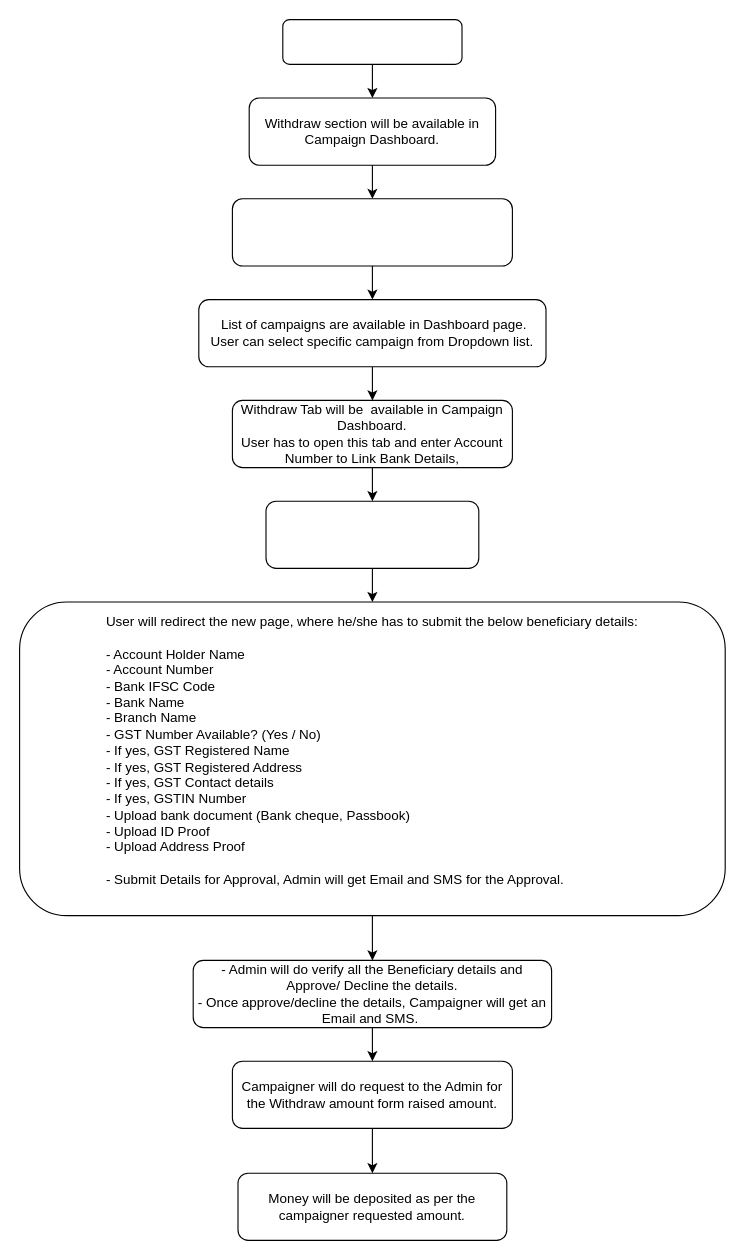
The diagram is 745 pixels wide and 1260 high, and some of its shapes have lost their labels. Each missing label, with the box of its shape:
Click on " Add Beneficiary Details " button.: (265, 500, 479, 568)
To open Campaign Dashboard, open My Fundraisers from Submenus of Profile: (231, 198, 512, 266)
Withdraw Process Flow: (282, 18, 462, 64)
